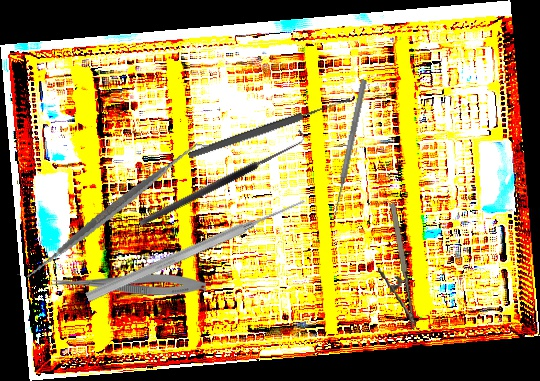Hook Surgical: (134, 127, 308, 229)
Micro Scissor: (48, 274, 206, 296)
Needle Holder: (369, 202, 417, 334)
Pusher: (84, 194, 308, 305), (330, 78, 369, 217)
Spatula Surgical: (17, 112, 209, 309)
Surgical Spoon: (187, 95, 352, 161)
